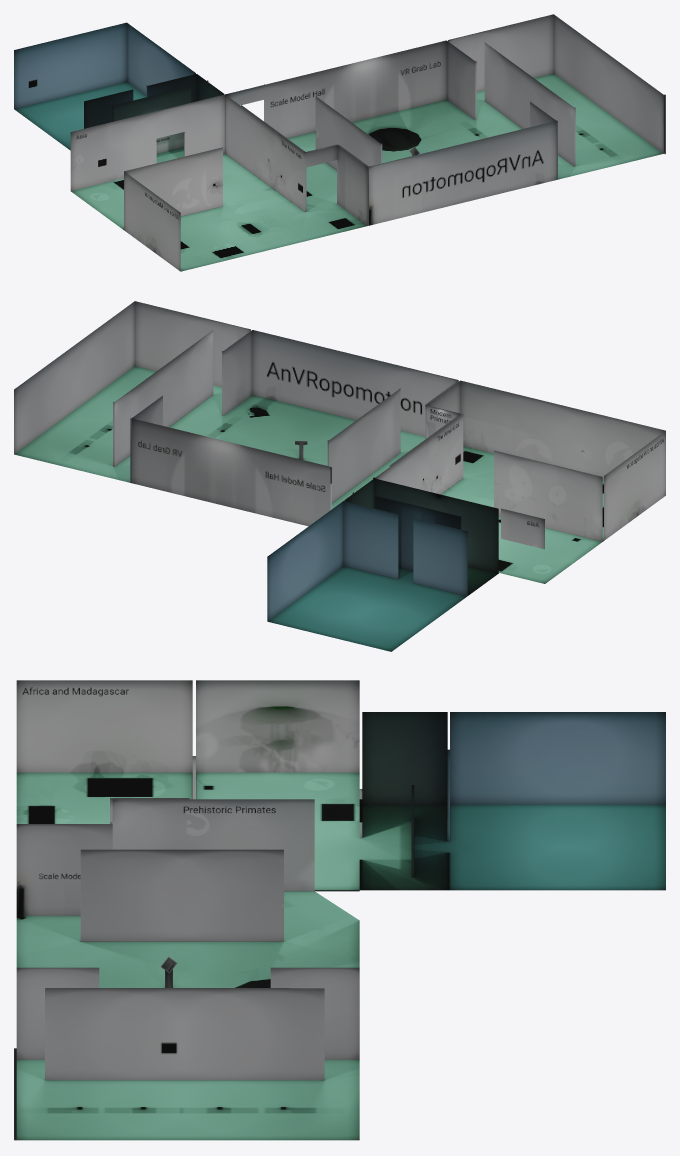
File: floorplan.glb
3 renders of one model, top to bottom at view 1: azimuth 30°, elevation 25°; view 2: azimuth 150°, elevation 25°; view 3: azimuth 270°, elevation 25°, orthographic. The views are drawn at different scales.
Size of the model in its own units: 34.34 by 4 by 25.65.
2 materials, 2 textured.
